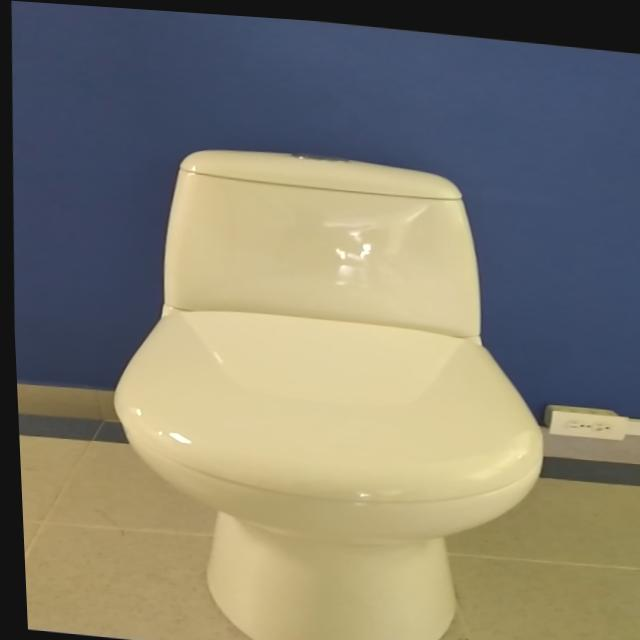toilet: (90, 130, 557, 640)
